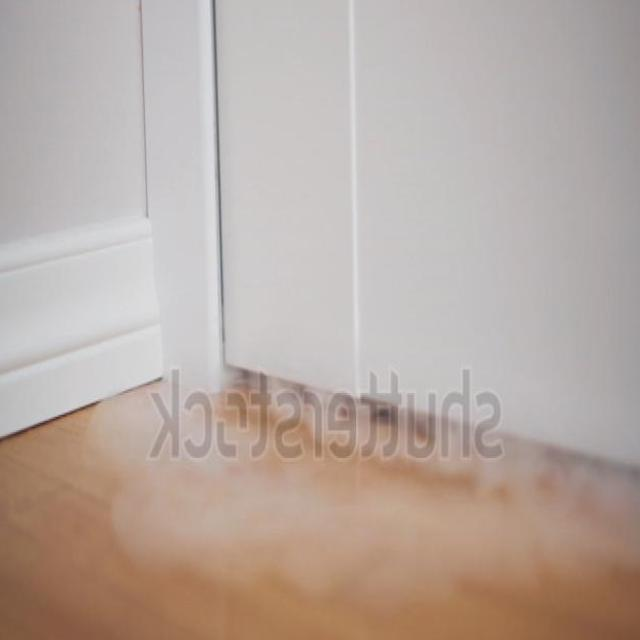fire: (88, 270, 640, 614)
